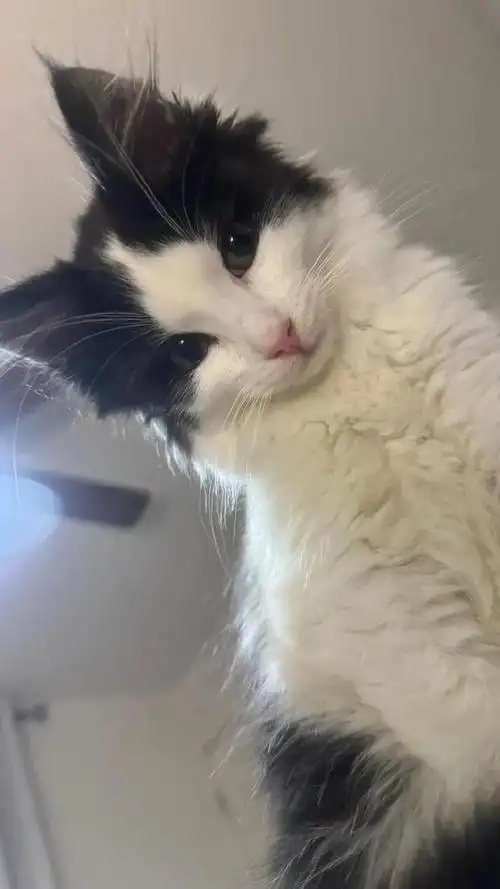奶牛猫: (0, 57, 332, 446), (204, 470, 499, 888)
